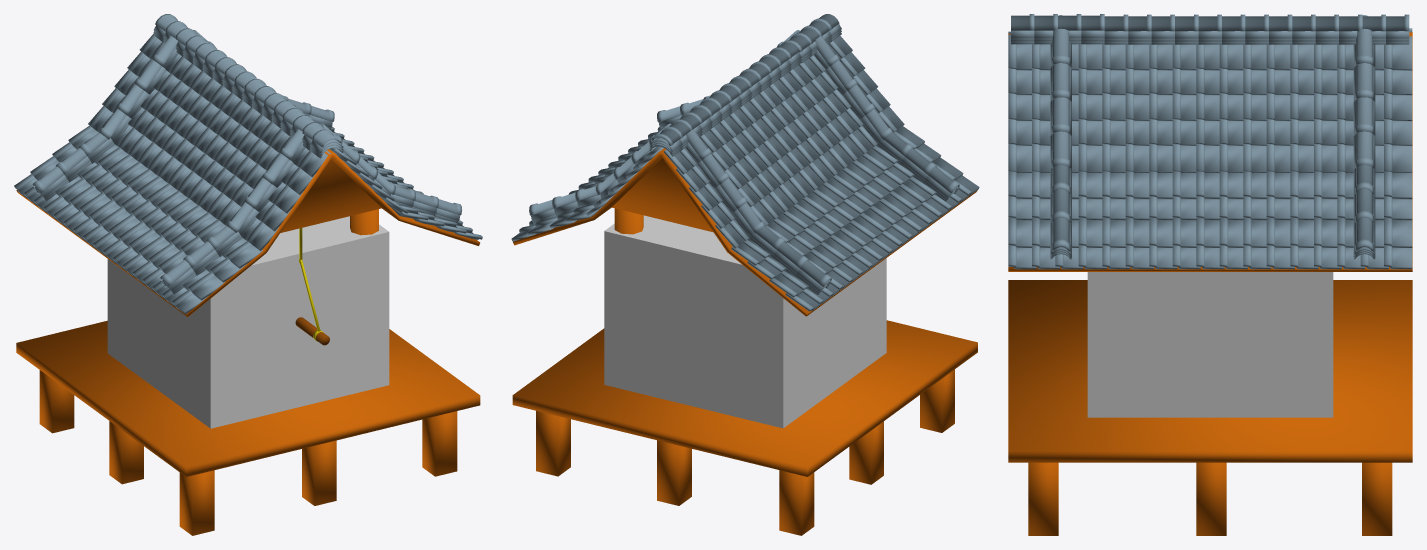
Rendered from kane.fbx.
The picture shows the model from 3 angles, left to right: view 1: azimuth 30°, elevation 25°; view 2: azimuth 150°, elevation 25°; view 3: azimuth 270°, elevation 25°; orthographic projection. The views are drawn at different scales.
Visible parts, largest first — view 1: kawara, gate, Cube, porl; view 2: kawara, gate, Cube, porl; view 3: kawara, gate, Cube.
Boxes of the visible parts, x1,y1,x2,y2 form: kawara: [14, 14, 482, 314]; gate: [16, 149, 480, 535]; Cube: [107, 216, 389, 428]; porl: [350, 209, 378, 235]; kawara: [511, 14, 979, 311]; gate: [512, 148, 977, 535]; Cube: [604, 215, 886, 428]; porl: [614, 208, 643, 234]; kawara: [1008, 14, 1412, 269]; gate: [1008, 32, 1412, 535]; Cube: [1087, 272, 1333, 417].
Bounding box in the file's own units: 335 × 398 × 329.
